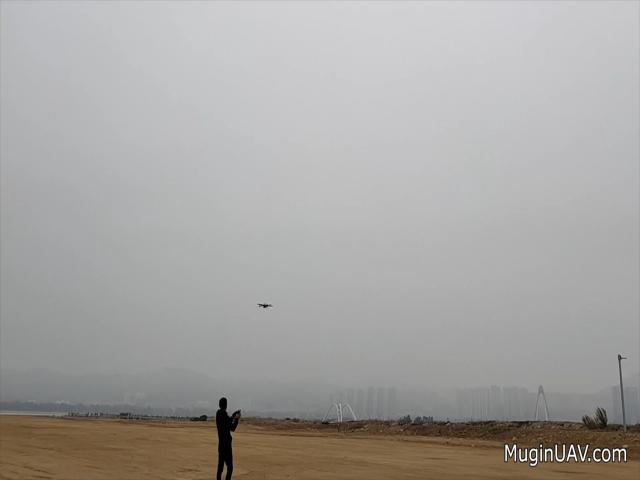plane: (258, 302, 272, 310)
